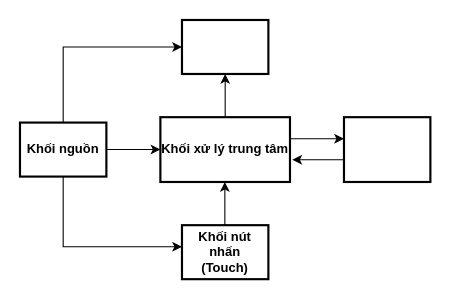
Some shapes in this 449 by 298 pixel diagram are drawn without their labels. The centre of each missing label's shape, as x and y in pixels:
"Khối Relay" belongs at pixel 224 46.
"Khối Webserver" belongs at pixel 386 149.
